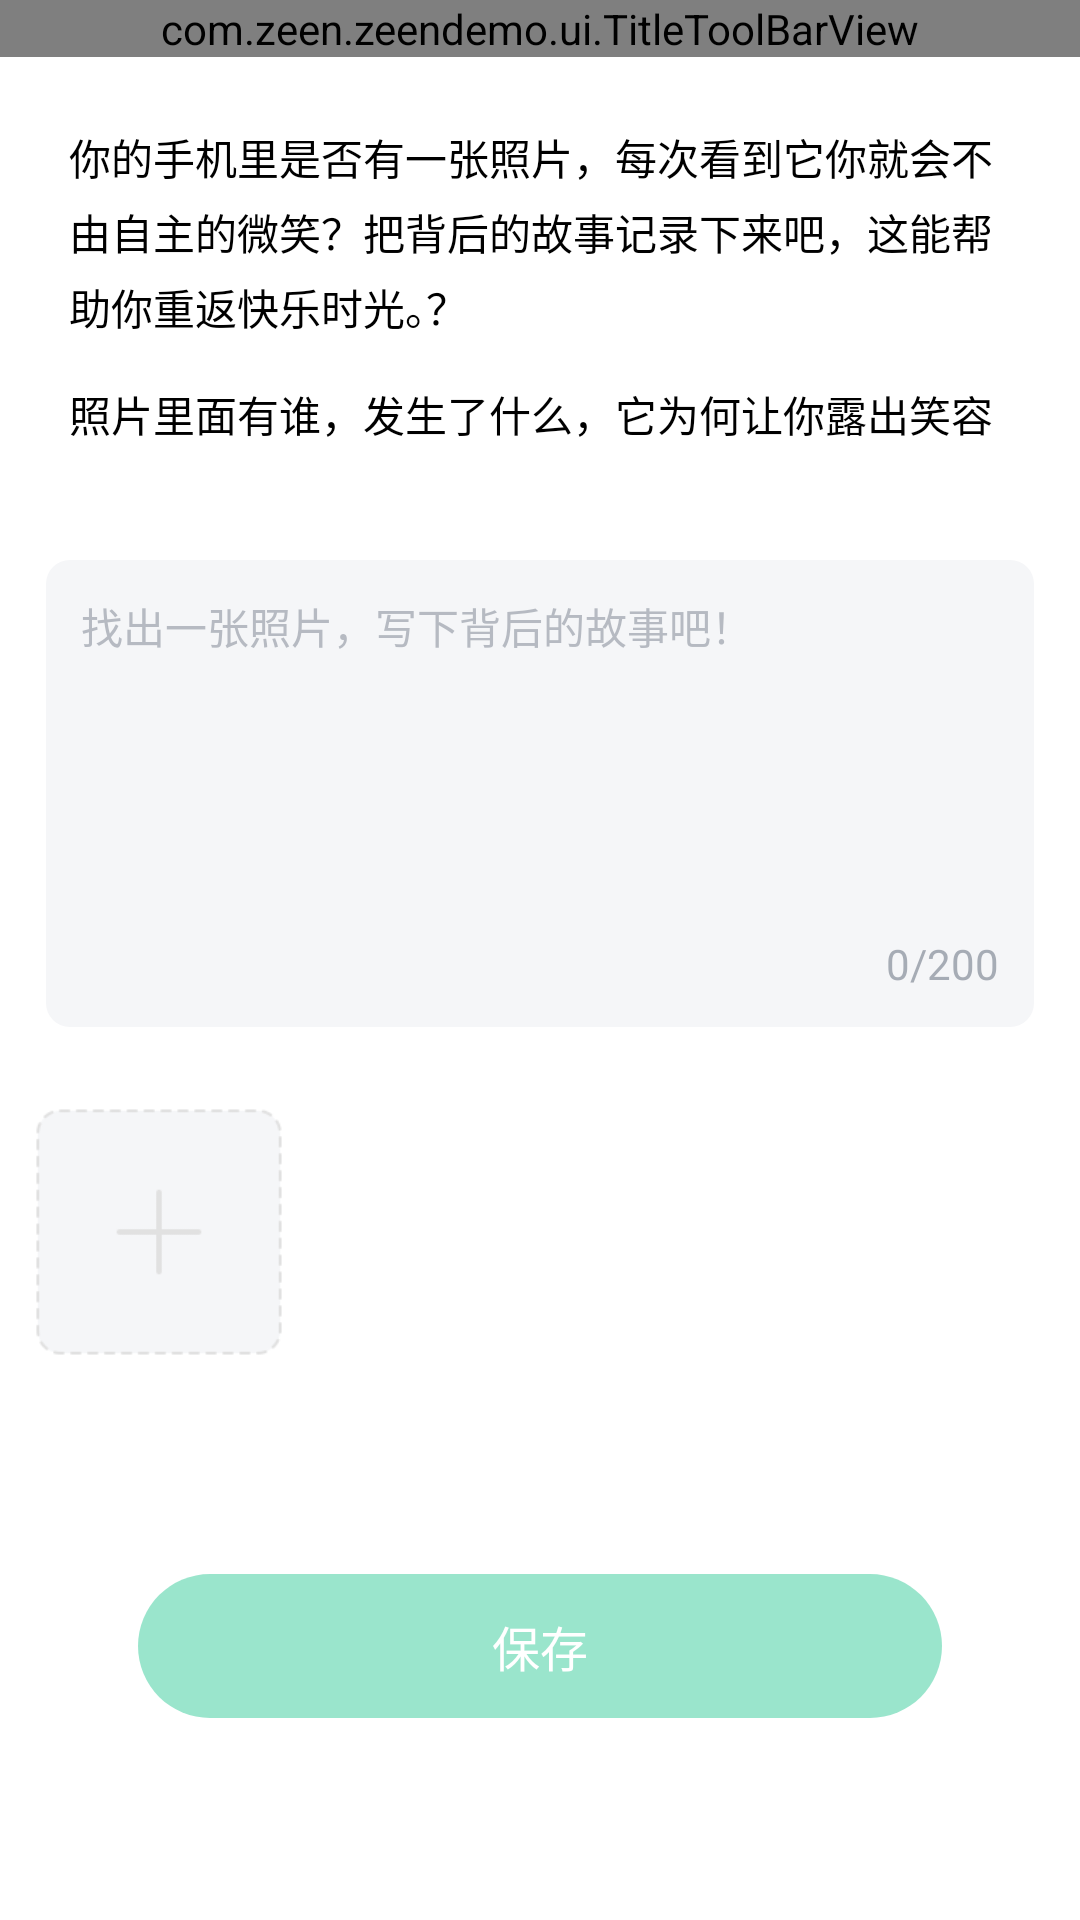

Screen size 1080 x 1920. Icon name, then its box in pixels as region(x1, y1, x2, y2):
upload: region(36, 1109, 282, 1355)
